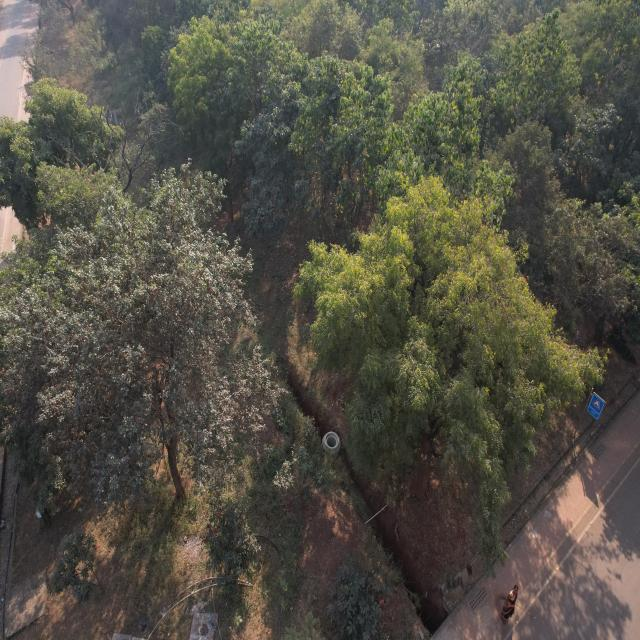Neem-Tree: (347, 194, 566, 482)
